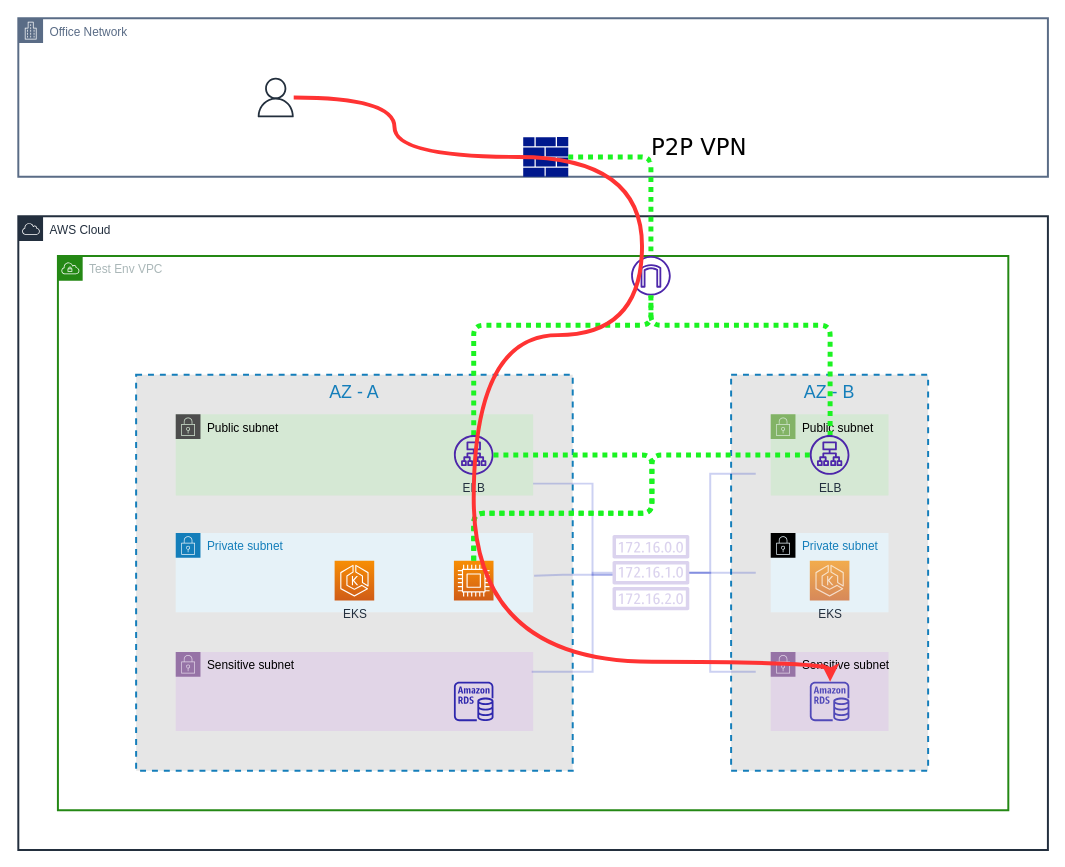
The diagram is 1065 pixels wide and 867 high, and some of its shapes have lost their labels. Here are the shapes that lost their labels. From the top down, the centre of each, then its label:
At point (275, 97): "User".
At point (545, 156): "Office FireWall".
At point (473, 580): "OpenSwan".
